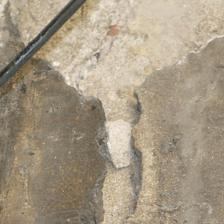Crack: (127, 38, 218, 216), (40, 60, 117, 224)
